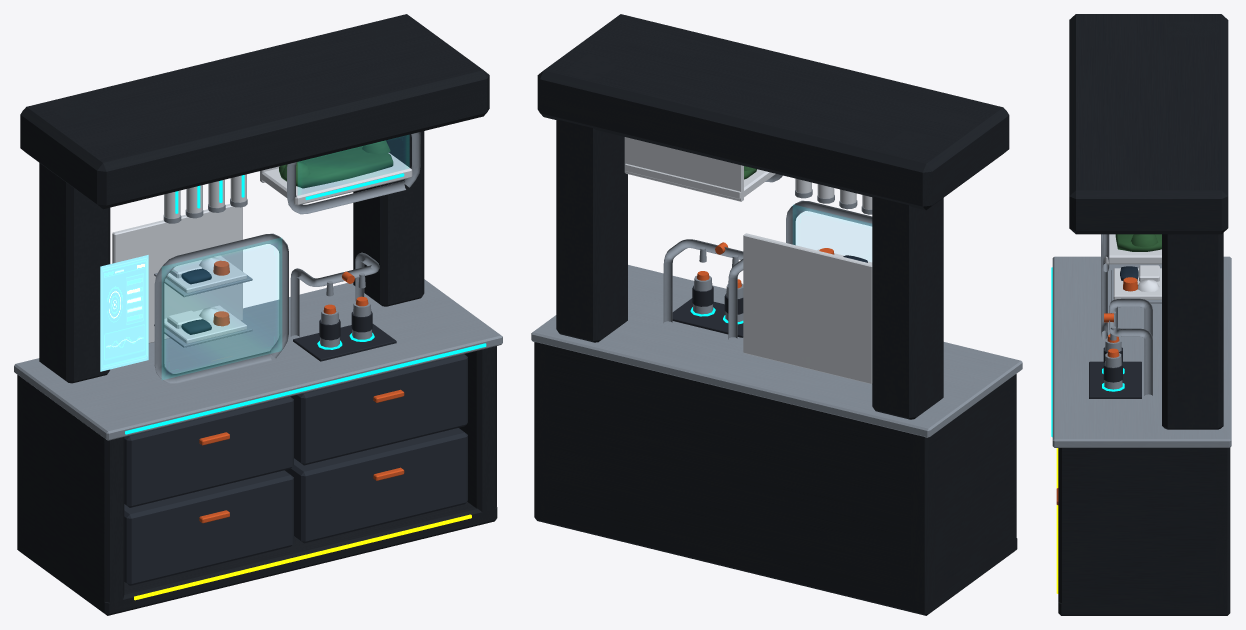
Rendered from galley_synth_r1_04.glb.
3 renders of one model, left to right at view 1: azimuth 30°, elevation 25°; view 2: azimuth 150°, elevation 25°; view 3: azimuth 270°, elevation 25°, orthographic. The views are drawn at different scales.
Visible parts, largest first — view 1: Galley04_CantileveredGunmetalPillars, Galley04_CarbonSlateDrawers, Galley04_MachinedManifoldsAndCounter, Galley04_TranslucentCanopyGlass, Galley04_WhiteTraysAndCanisters, Galley04_OLEDNutriConsole, Galley04_AeroponicHerbs, Galley04_CyanCoastersLED, Galley04_CharcoalPads, Galley04_SignalOrangeValves, Galley04_AmberInductionLED, Galley04_NavyPouches; view 2: Galley04_CantileveredGunmetalPillars, Galley04_MachinedManifoldsAndCounter, Galley04_WhiteTraysAndCanisters, Galley04_TranslucentCanopyGlass, Galley04_CharcoalPads; view 3: Galley04_CantileveredGunmetalPillars, Galley04_MachinedManifoldsAndCounter, Galley04_WhiteTraysAndCanisters, Galley04_CharcoalPads, Galley04_AeroponicHerbs, Galley04_SignalOrangeValves, Galley04_CyanCoastersLED, Galley04_AmberInductionLED.
Part boxes in pixels (box(x1,y1,x2,y2)): Galley04_CantileveredGunmetalPillars: box(17, 14, 497, 615); Galley04_CarbonSlateDrawers: box(124, 354, 467, 585); Galley04_MachinedManifoldsAndCounter: box(14, 132, 502, 440); Galley04_TranslucentCanopyGlass: box(162, 135, 408, 379); Galley04_WhiteTraysAndCanisters: box(112, 153, 412, 343); Galley04_OLEDNutriConsole: box(100, 255, 148, 371); Galley04_AeroponicHerbs: box(279, 140, 393, 188); Galley04_CyanCoastersLED: box(125, 173, 486, 434); Galley04_CharcoalPads: box(293, 311, 396, 361); Galley04_SignalOrangeValves: box(199, 260, 404, 523); Galley04_AmberInductionLED: box(134, 514, 471, 600); Galley04_NavyPouches: box(181, 268, 211, 334); Galley04_CantileveredGunmetalPillars: box(534, 14, 1017, 615); Galley04_MachinedManifoldsAndCounter: box(531, 174, 1022, 437); Galley04_WhiteTraysAndCanisters: box(624, 137, 872, 384); Galley04_TranslucentCanopyGlass: box(793, 205, 871, 261); Galley04_CharcoalPads: box(672, 285, 743, 337); Galley04_CantileveredGunmetalPillars: box(1058, 14, 1230, 615); Galley04_MachinedManifoldsAndCounter: box(1052, 234, 1231, 447); Galley04_WhiteTraysAndCanisters: box(1104, 234, 1161, 299); Galley04_CharcoalPads: box(1089, 347, 1141, 398); Galley04_AeroponicHerbs: box(1115, 234, 1161, 251); Galley04_SignalOrangeValves: box(1056, 277, 1137, 504); Galley04_CyanCoastersLED: box(1051, 267, 1124, 437); Galley04_AmberInductionLED: box(1056, 448, 1058, 593).
Bounding box in the file's own units: 1.97 × 2.12 × 0.8156.
Materials: 13 (13 with a texture image).
